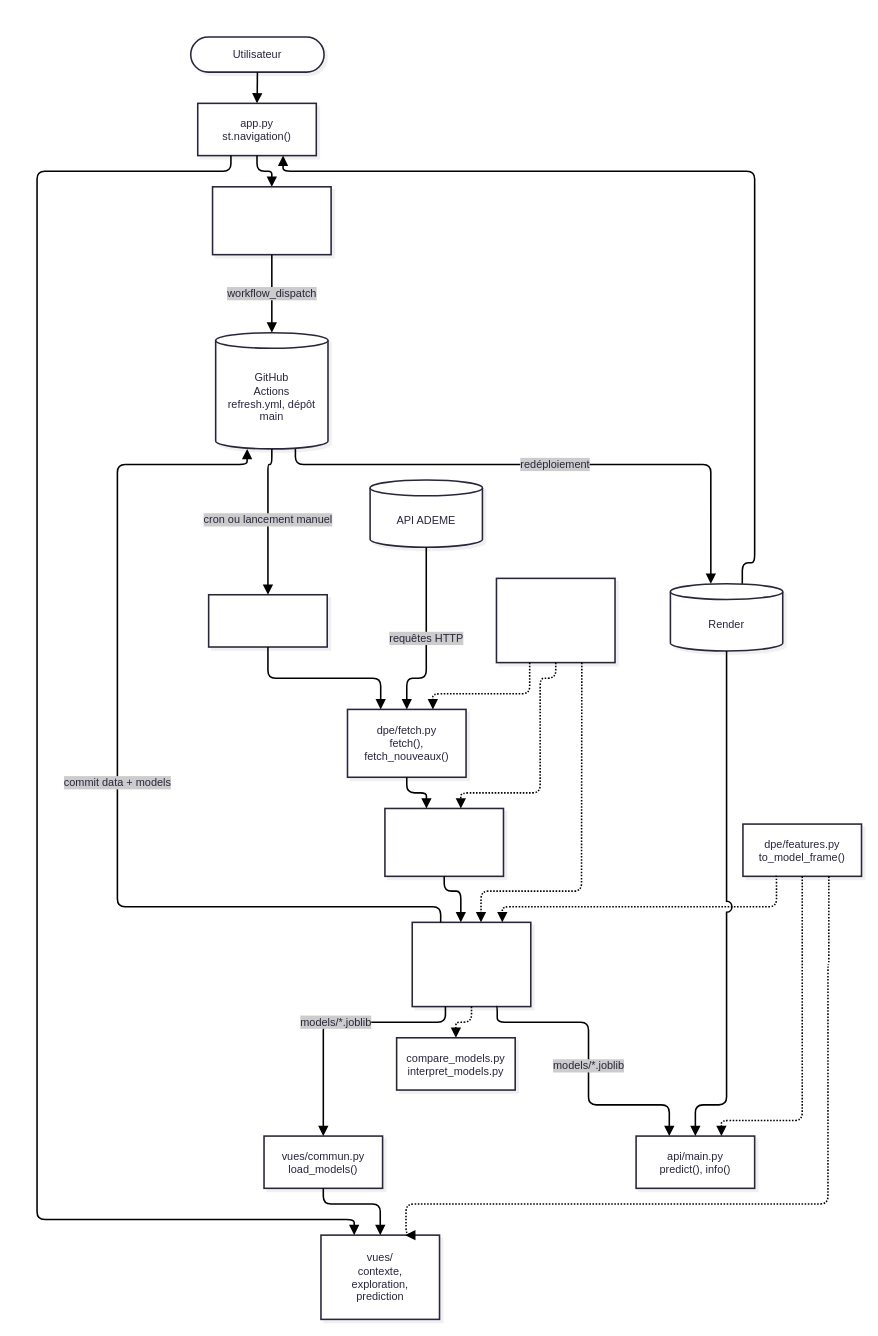
Image size: 878x1336. Some labels were removed from this diagram. Here are the shapes that lost their labels. From the top down, the centre of each, then its label:
(x=273, y=222): vues/administration.py lancer(), dernier_run()
(x=269, y=622): run.py main()
(x=557, y=621): dpe/config.py chemins, variables, paramètres
(x=445, y=843): dpe/clean.py run(), run_incremental()
(x=472, y=965): dpe/train.py run(), split_par_adresse(), make_model()
